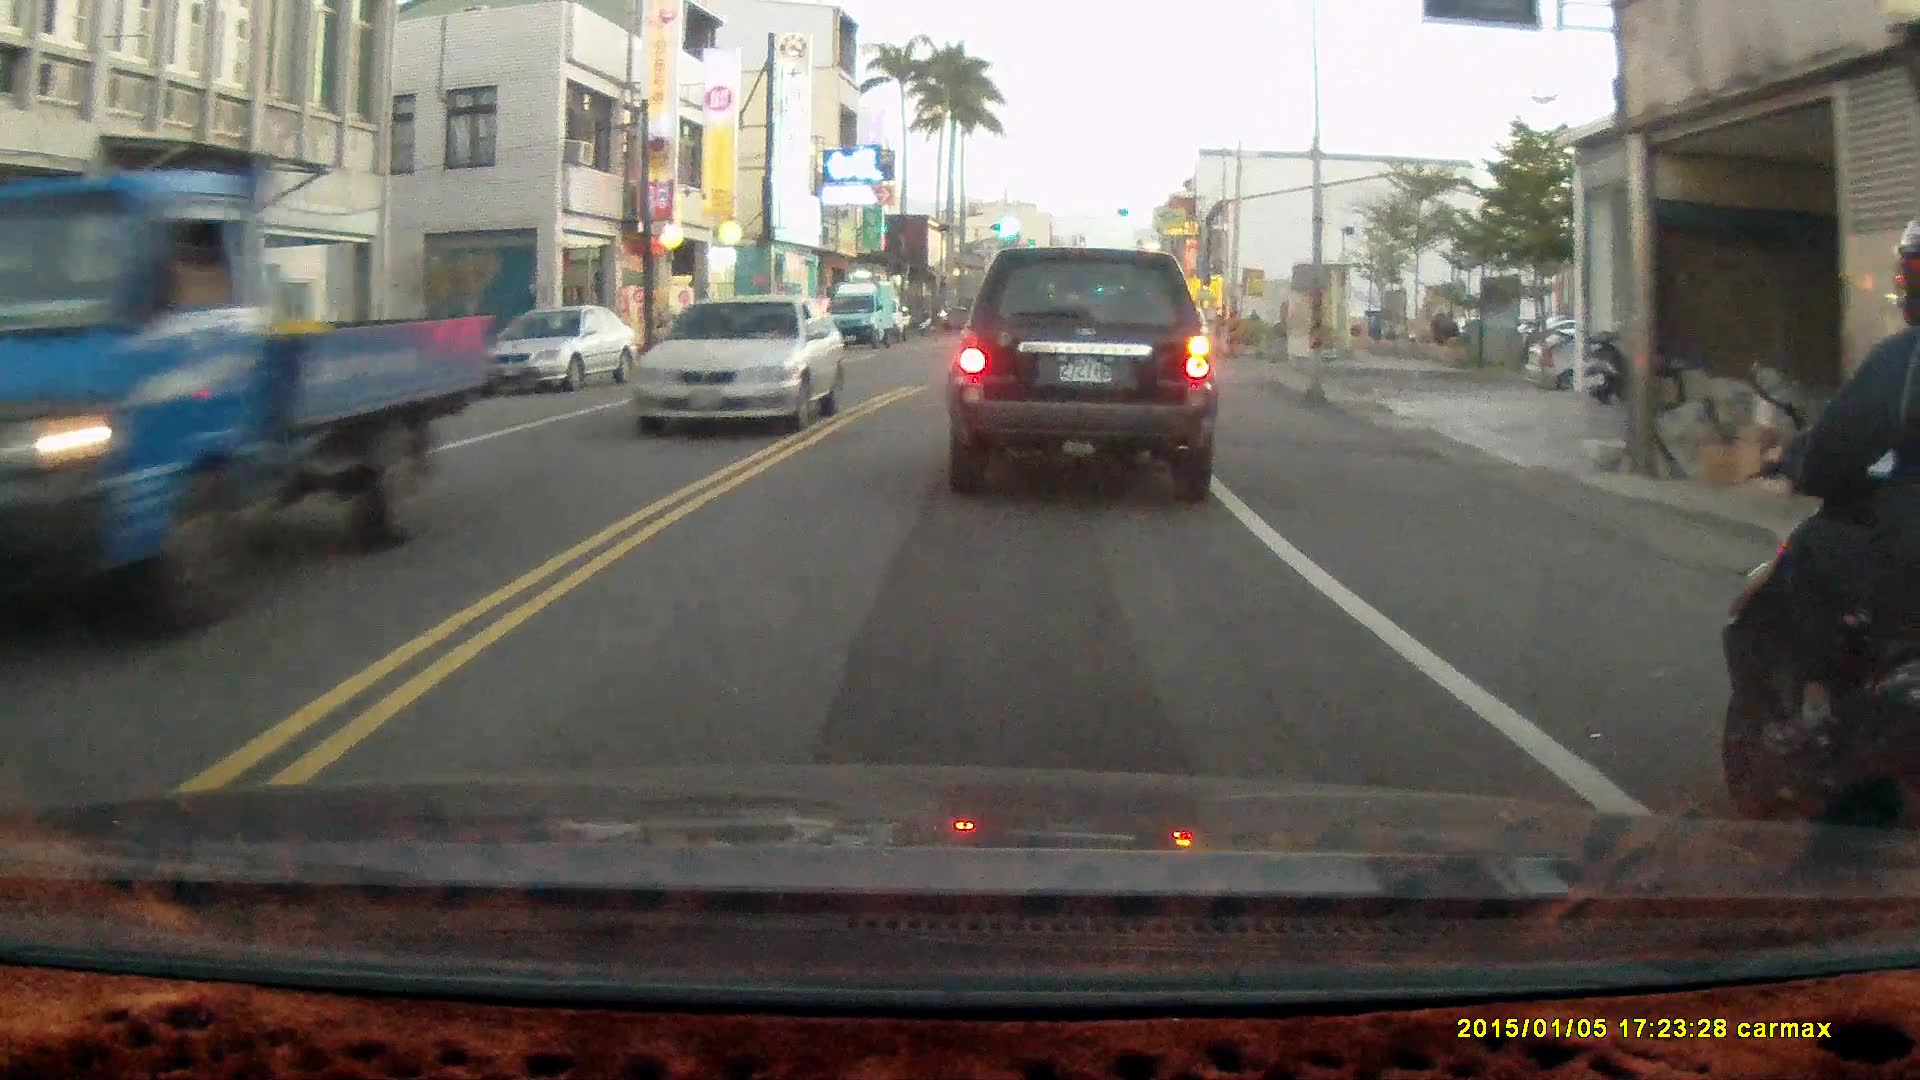rider: (1719, 213, 1920, 903)
vehicle: (1, 168, 496, 632), (943, 243, 1217, 494), (630, 294, 845, 435), (1518, 322, 1717, 401), (471, 302, 638, 394), (823, 278, 907, 351)
